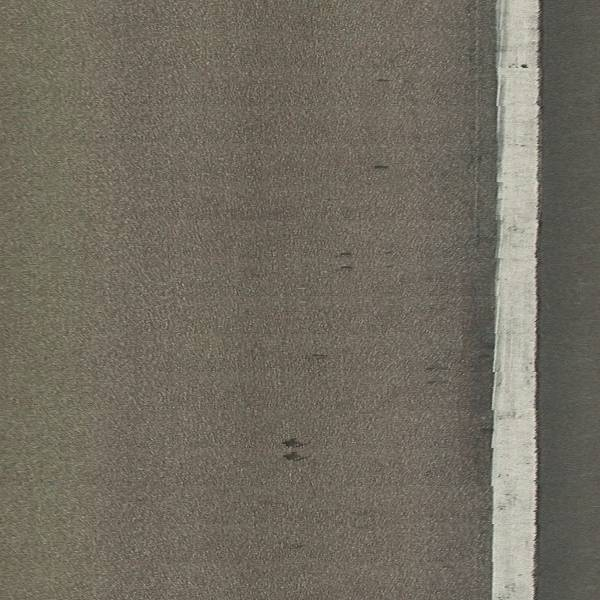road_damage: (332, 247, 358, 260)
